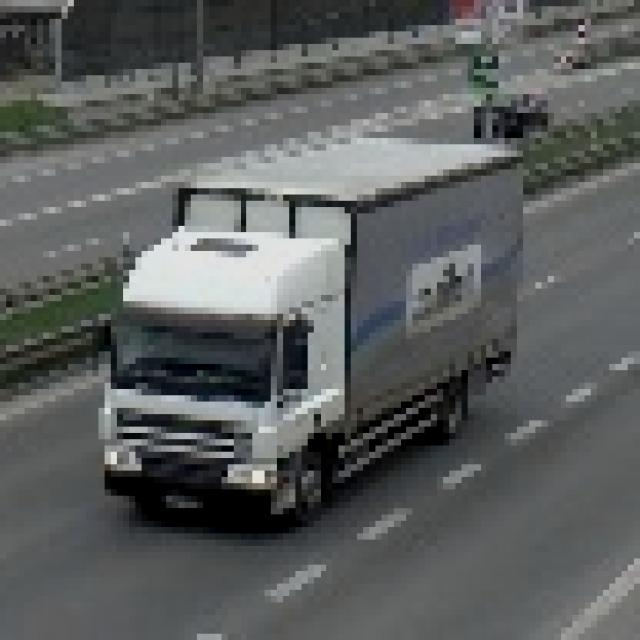truck: (75, 133, 518, 522)
